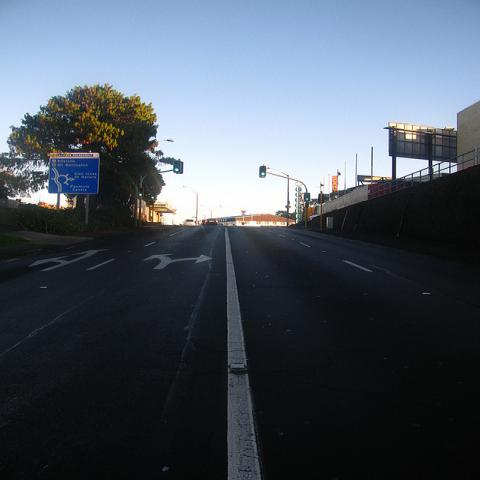car: (205, 218, 218, 225)
